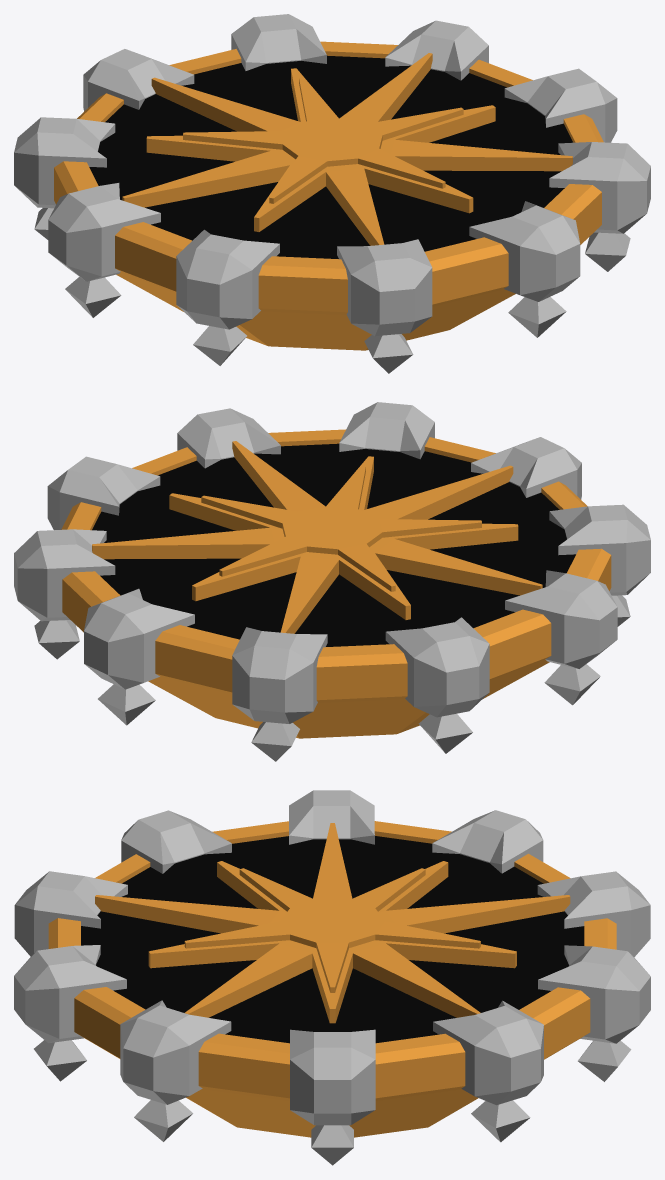
File: Platform.fbx
3 views of the same model, one above another, from view 1: azimuth 30°, elevation 25°; view 2: azimuth 150°, elevation 25°; view 3: azimuth 270°, elevation 25° (orthographic). The views are drawn at different scales.
Parts seen in each view (by area): view 1: Cylinder.030, Cube.112, Cylinder.031; view 2: Cylinder.030, Cube.112, Cylinder.031; view 3: Cylinder.030, Cube.112, Cylinder.031.
Part boxes in pixels (x1,y1,x2,y2): Cylinder.030: [54, 41, 603, 350]; Cube.112: [14, 14, 650, 373]; Cylinder.031: [122, 53, 572, 245]; Cylinder.030: [61, 429, 611, 738]; Cube.112: [14, 402, 650, 761]; Cylinder.031: [92, 441, 542, 633]; Cylinder.030: [48, 821, 616, 1137]; Cube.112: [14, 790, 650, 1165]; Cylinder.031: [95, 823, 570, 1023].
Bounding box in the file's own units: 904 × 260 × 876.
